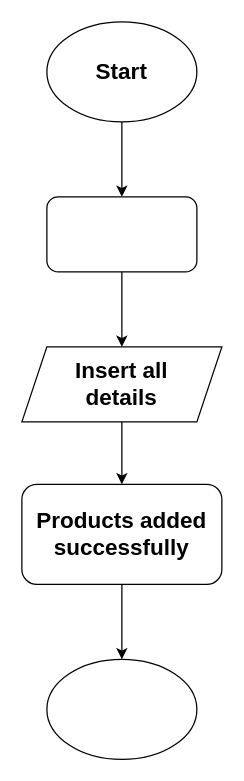
This 244x781 diagram has some shape labels left out. Each missing label, with the centre of its shape:
Add products: (121,234)
Stop: (121,708)
